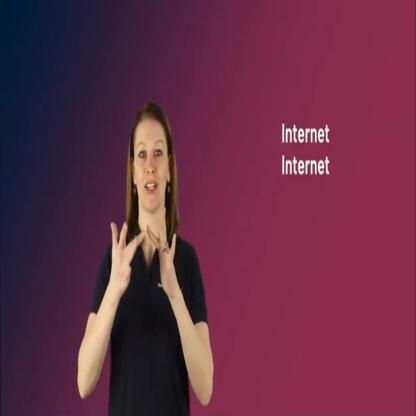Internet: (110, 209, 179, 298)
